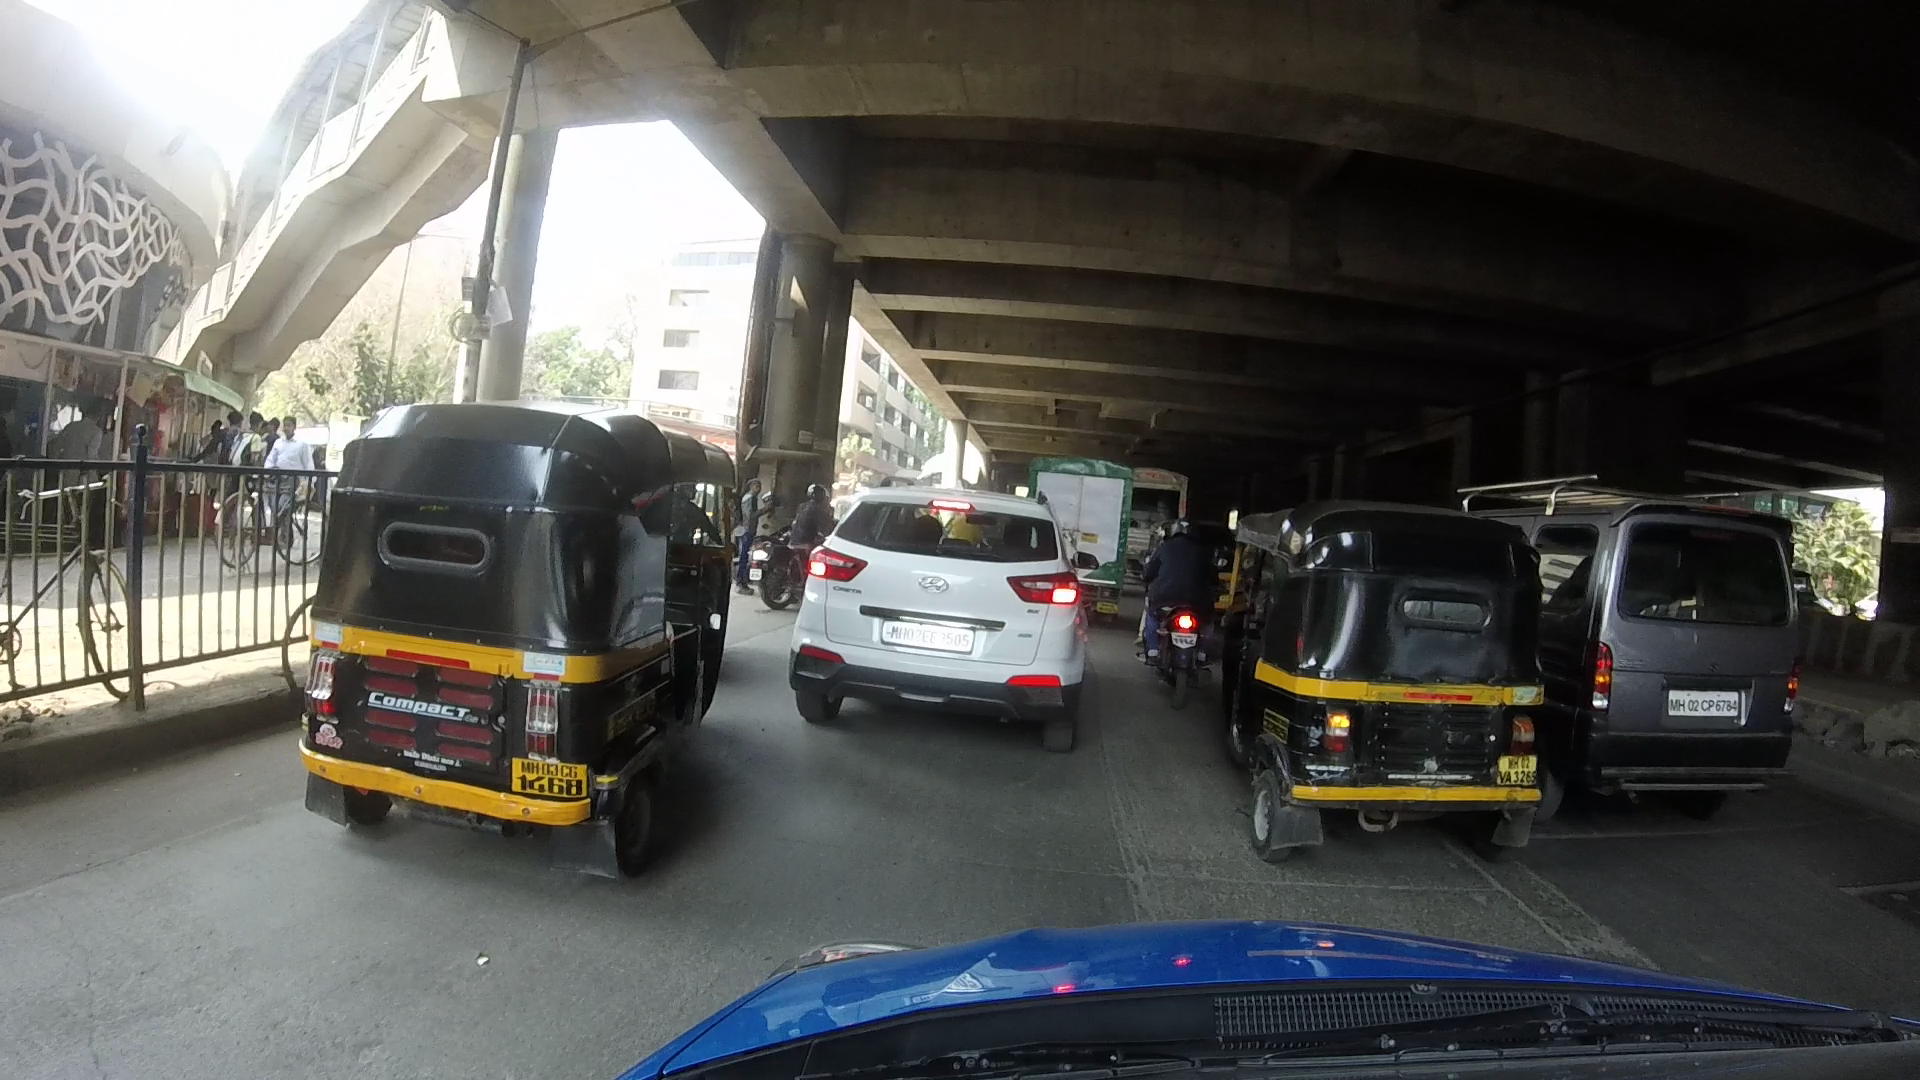bike/scooter: (1134, 504, 1211, 674)
car: (1519, 513, 1822, 804), (790, 487, 1108, 733)
rickshaw: (313, 401, 702, 877), (1234, 516, 1555, 866)
